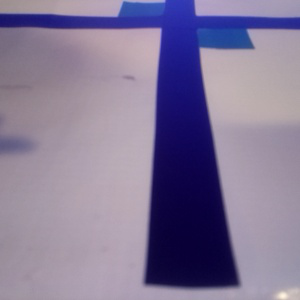bottom_right: (163, 16, 255, 48)
top_left: (117, 1, 193, 26)
